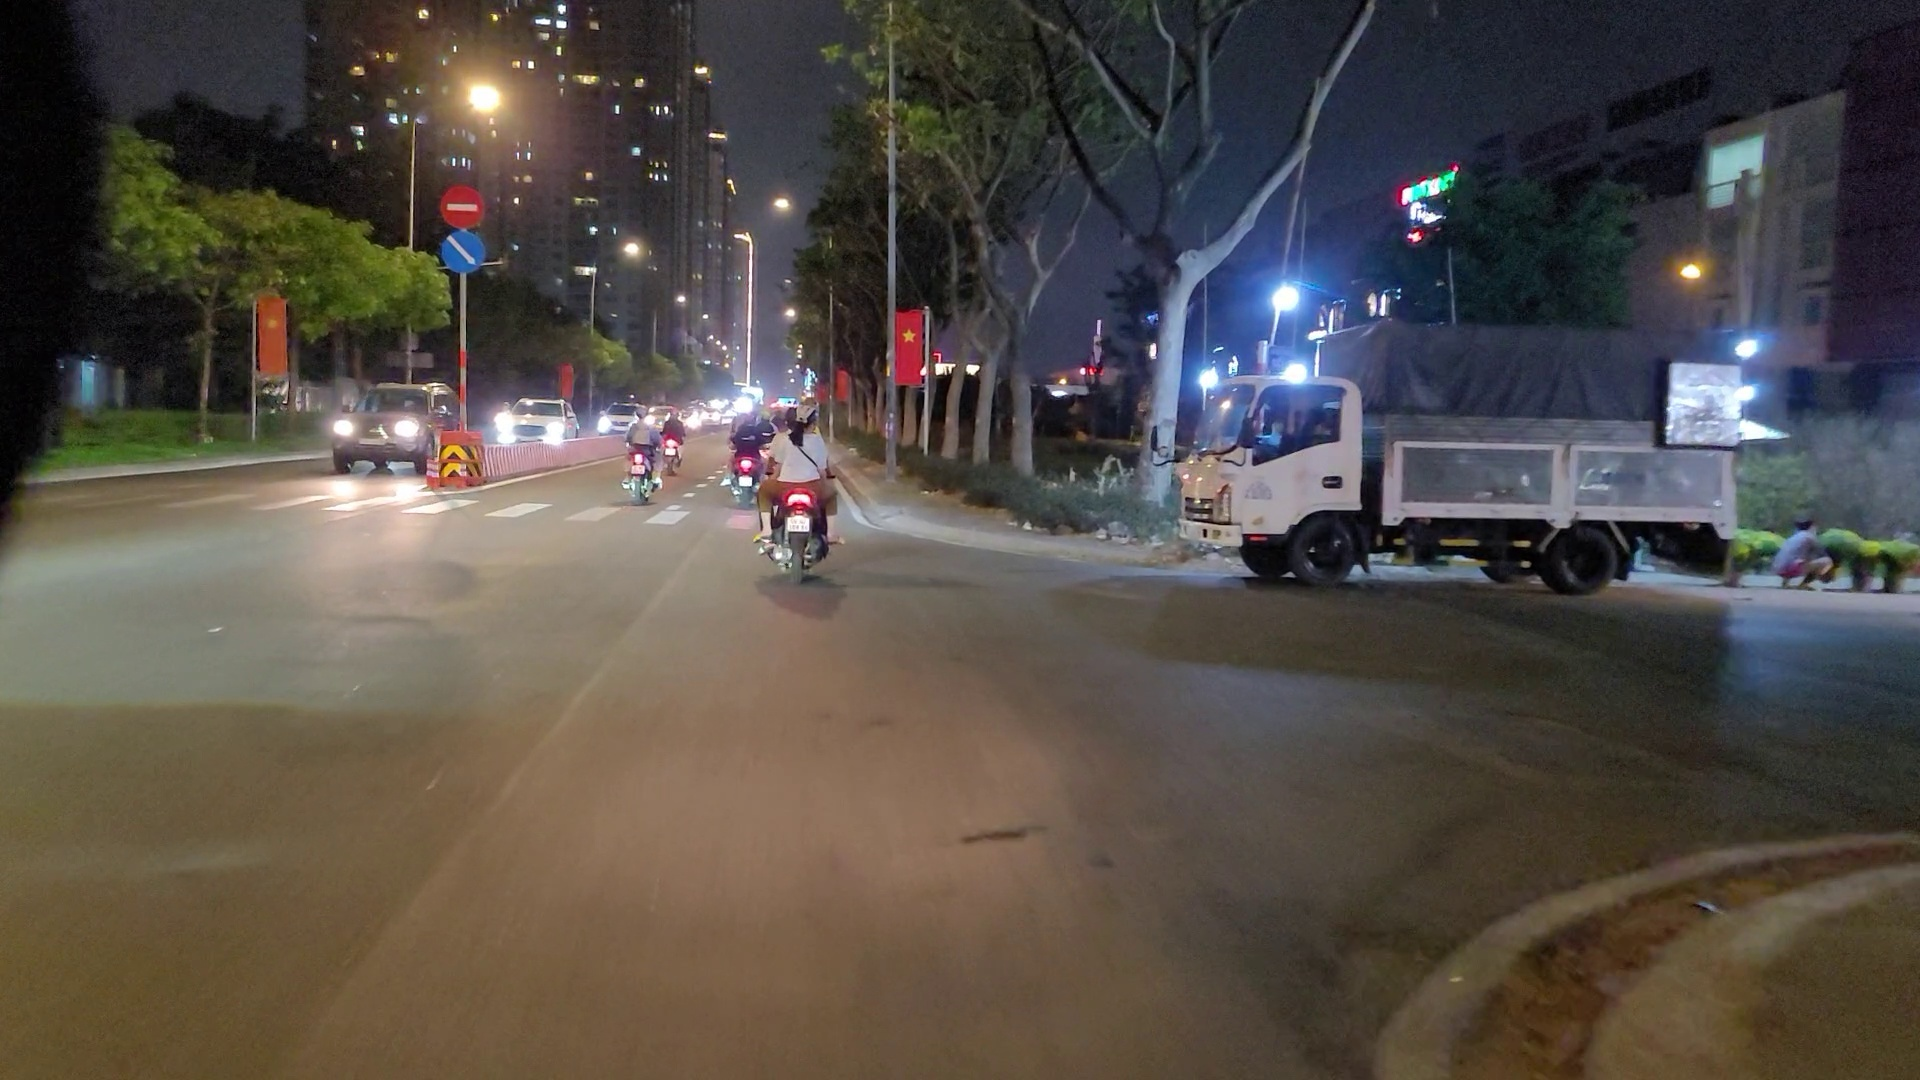Cam di nguoc chieu: (438, 189, 483, 228)
Huong di phai re phai: (438, 229, 485, 272)
